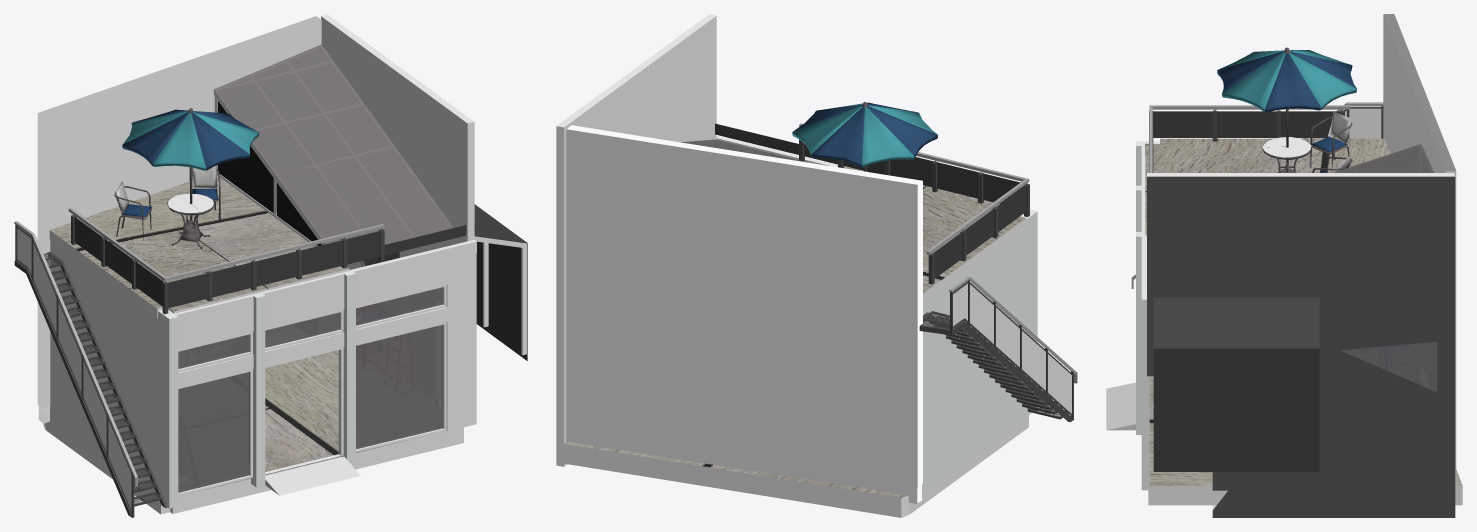
File: Indibiz.fbx
The picture shows the model from 3 angles, left to right: view 1: azimuth 30°, elevation 25°; view 2: azimuth 150°, elevation 25°; view 3: azimuth 270°, elevation 25°; orthographic projection. The views are drawn at different scales.
Visible parts, largest first — view 1: TEMBOK INDIBIZ.001, Atap.002, a lantai, Atap, a tangga, a Kursi, a Falfon; view 2: TEMBOK INDIBIZ.001, a tangga, a lantai, Atap, a Kursi, Atap.002; view 3: TEMBOK INDIBIZ.001, a Falfon, a Kursi, Atap.002, Atap, a lantai, a tangga.
Part boxes in pixels (left/top/right/bottom): TEMBOK INDIBIZ.001: left=37, top=14, right=476, bottom=508; Atap.002: left=49, top=175, right=349, bottom=318; a lantai: left=43, top=350, right=463, bottom=514; Atap: left=68, top=208, right=475, bottom=314; a tangga: left=14, top=221, right=167, bottom=517; a Kursi: left=114, top=108, right=259, bottom=248; a Falfon: left=474, top=204, right=527, bottom=360; TEMBOK INDIBIZ.001: left=556, top=14, right=1037, bottom=503; a tangga: left=919, top=276, right=1077, bottom=422; a lantai: left=563, top=415, right=1028, bottom=517; Atap: left=715, top=123, right=1029, bottom=284; a Kursi: left=792, top=102, right=937, bottom=171; Atap.002: left=844, top=166, right=1026, bottom=303; TEMBOK INDIBIZ.001: left=1106, top=14, right=1456, bottom=517; a Falfon: left=1153, top=297, right=1319, bottom=472; a Kursi: left=1217, top=47, right=1356, bottom=172; Atap.002: left=1145, top=138, right=1390, bottom=235; Atap: left=1149, top=105, right=1350, bottom=295; a lantai: left=1148, top=376, right=1462, bottom=505; a tangga: left=1131, top=102, right=1383, bottom=288.
Size of the model in its own units: 890 by 725 by 651.
Materials: 69 (17 with a texture image).
